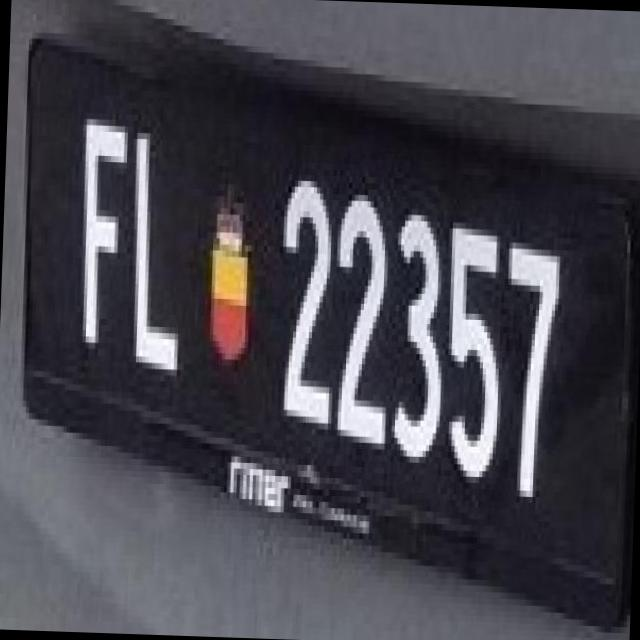2: (260, 155, 336, 429), (321, 176, 393, 450)
3: (374, 190, 454, 458)
5: (431, 198, 514, 478)
7: (491, 224, 567, 486)
F: (60, 93, 136, 350)
L: (116, 108, 189, 364)
